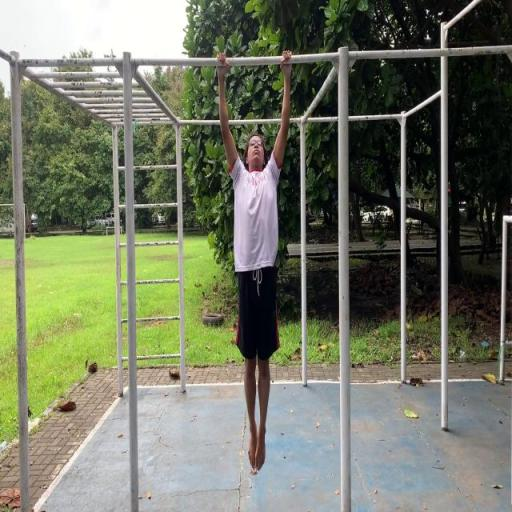Normal_BrenchPress: (216, 50, 294, 477)
